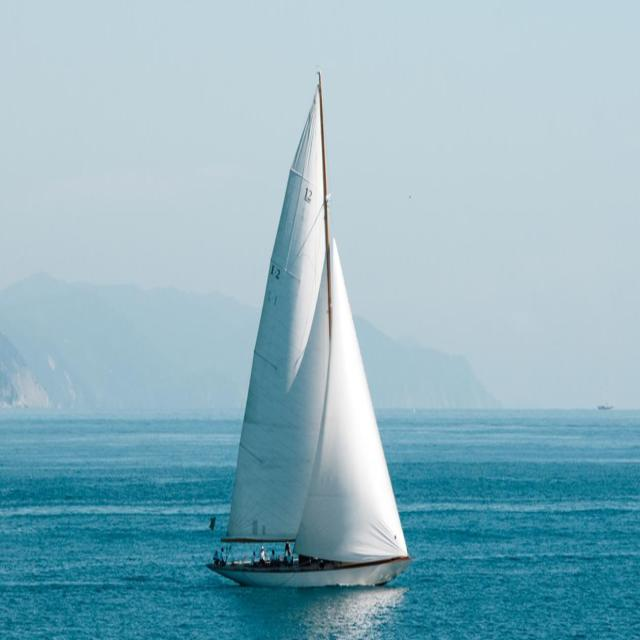boat: (208, 69, 417, 612)
